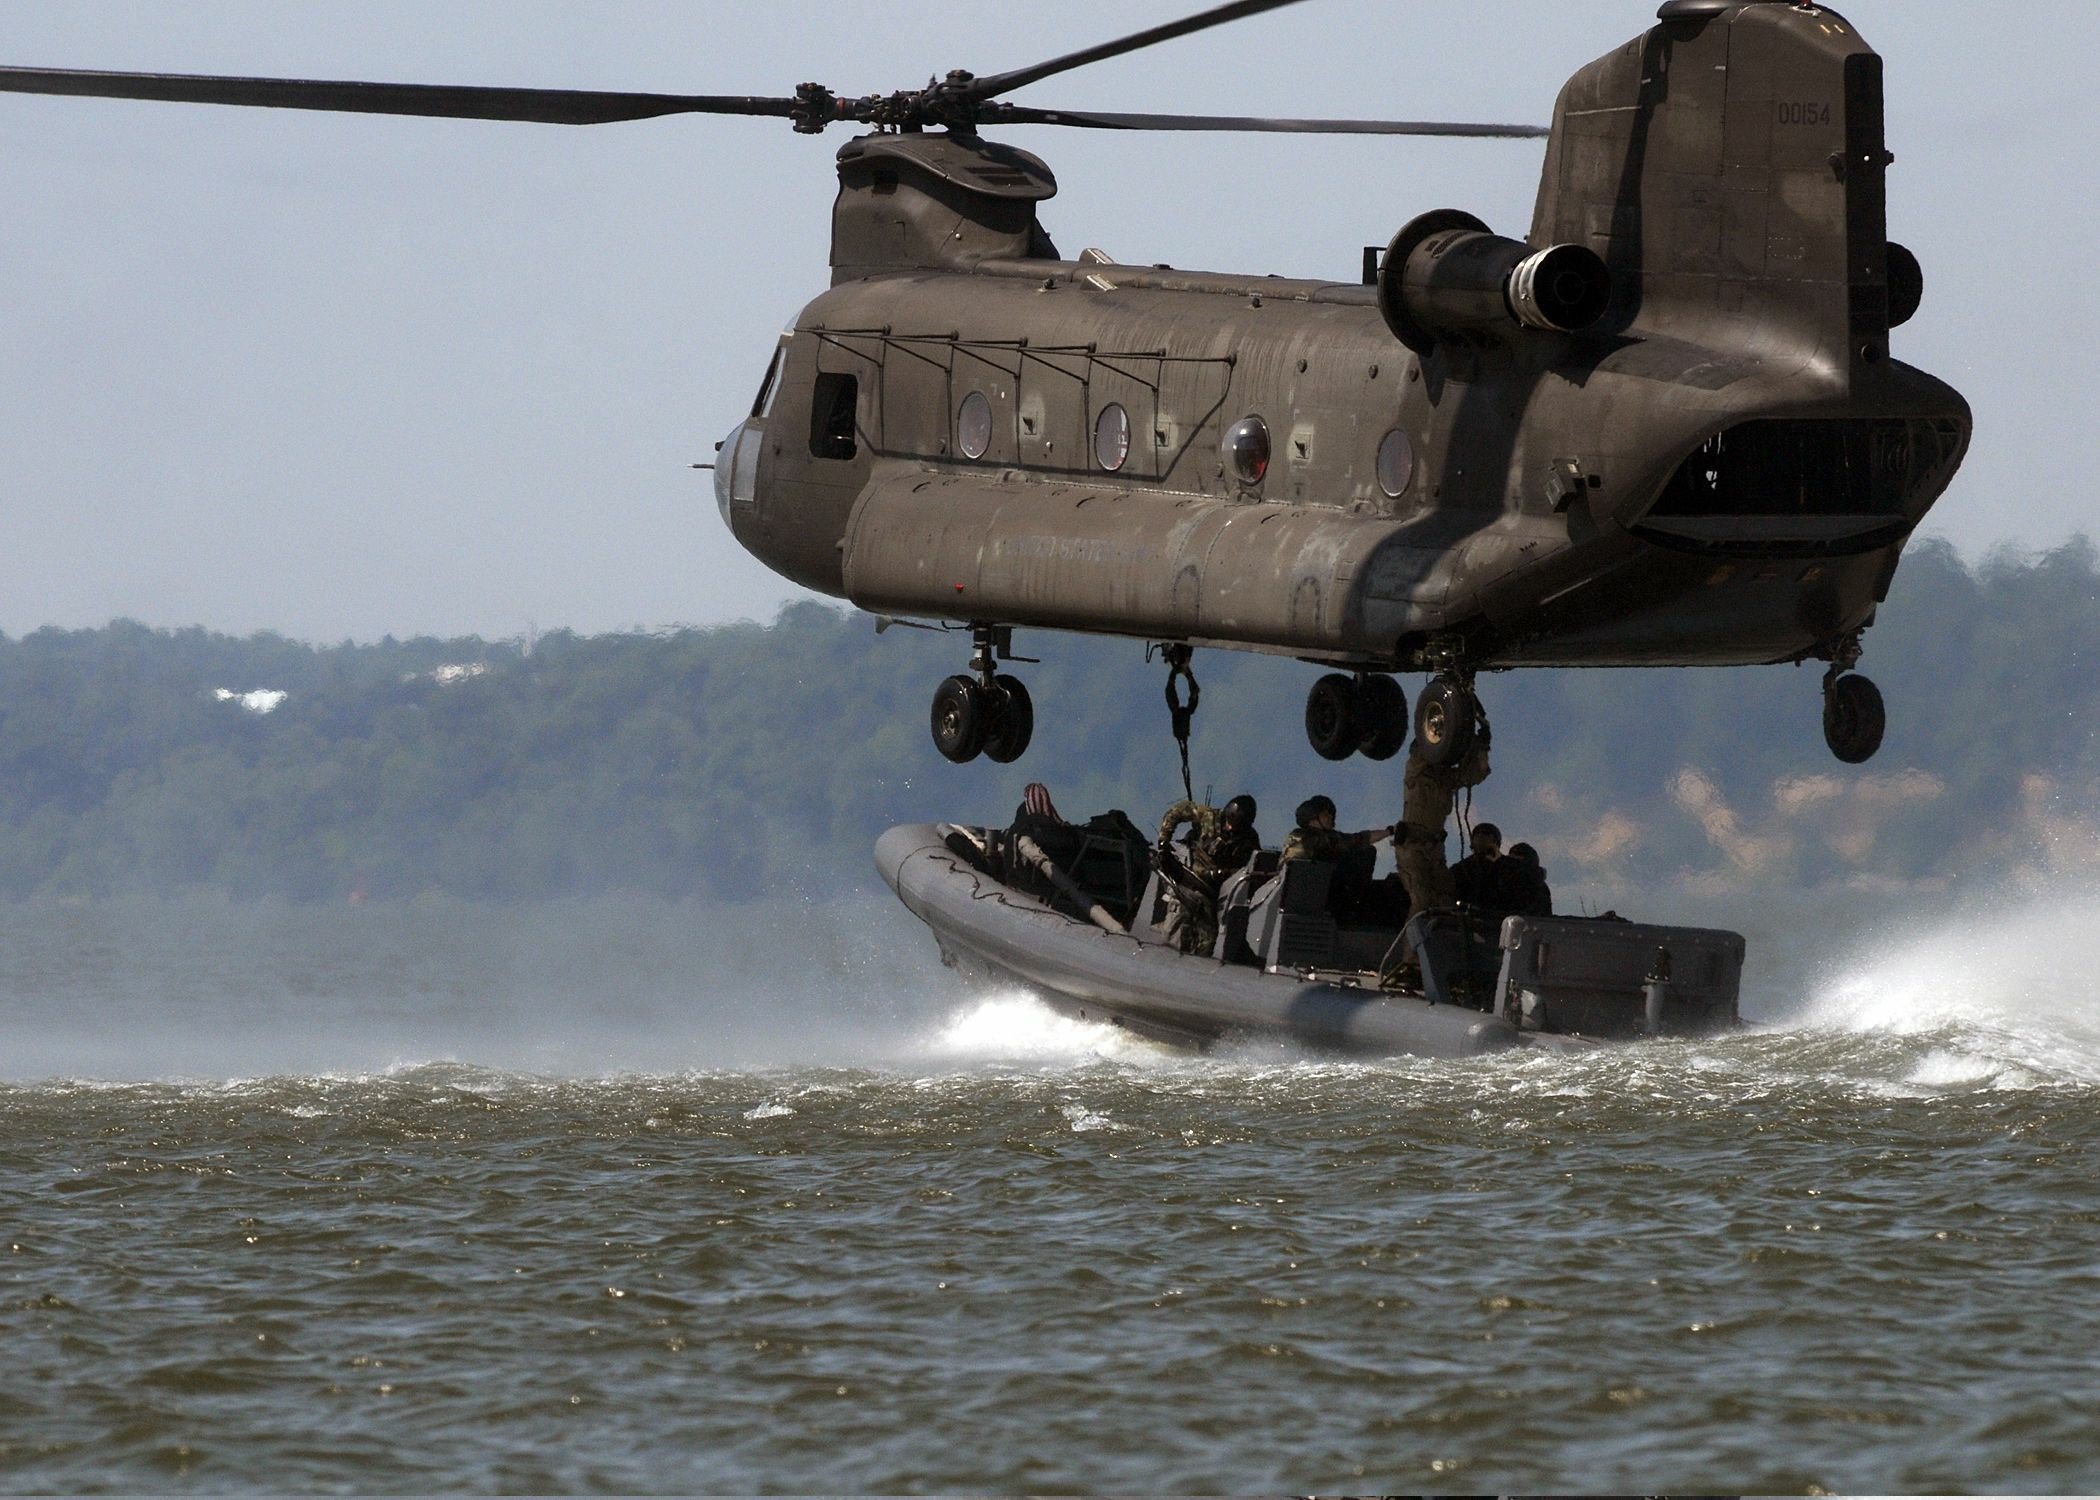chinook: (639, 31, 1996, 779)
